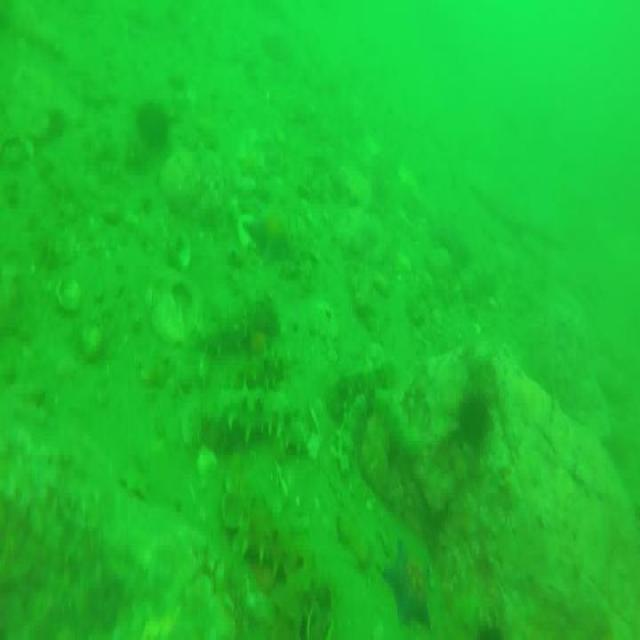echinus: (461, 390, 495, 455), (137, 96, 173, 156)
holothurian: (218, 493, 308, 589), (206, 387, 294, 441), (199, 296, 281, 346)
scallop: (167, 226, 191, 269), (51, 274, 79, 308), (397, 156, 417, 194)
starfish: (385, 537, 433, 629)
